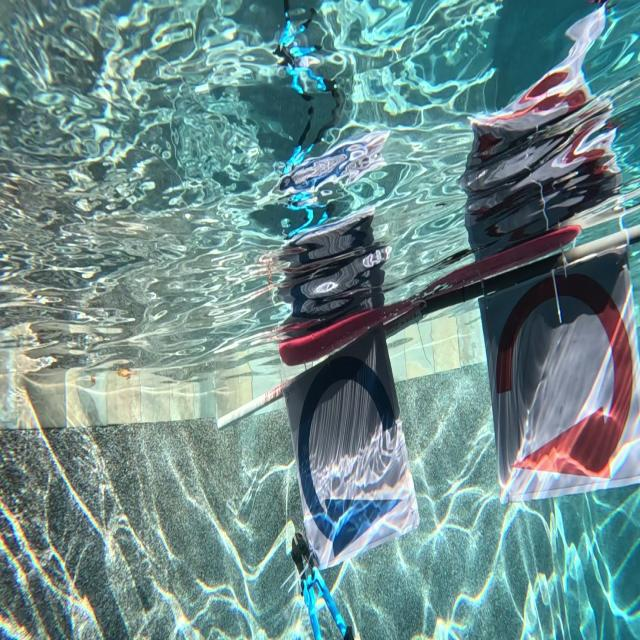blue_side: (297, 355, 398, 553)
red_side: (492, 269, 630, 489)
